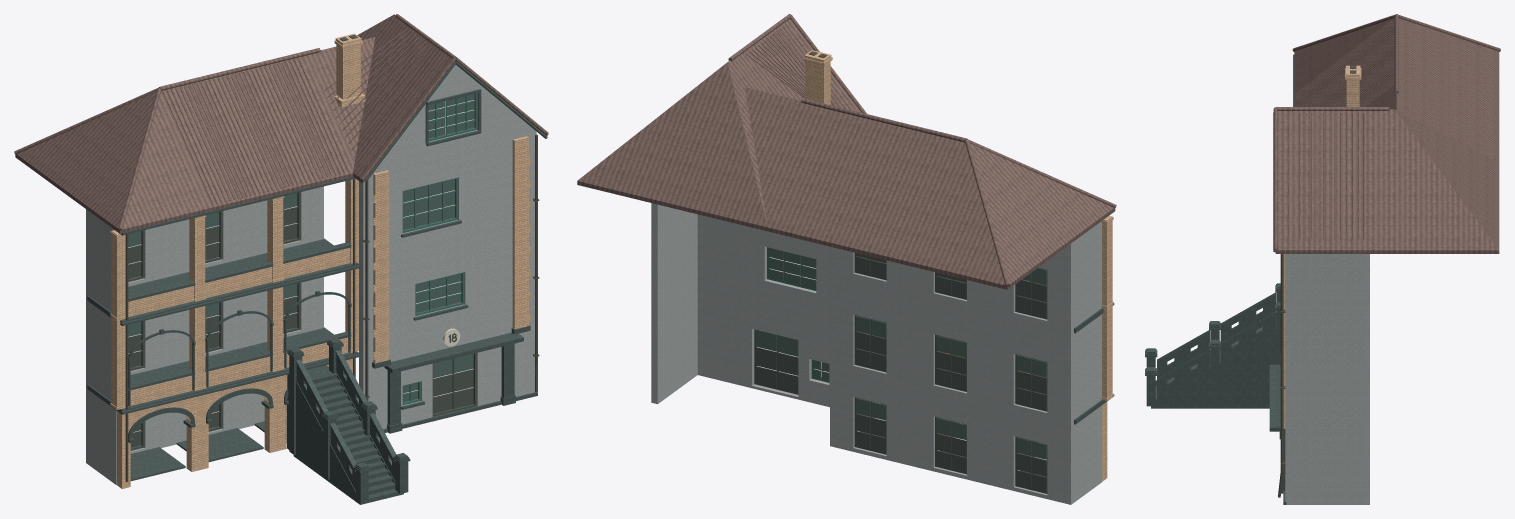
Rendered from full-source.glb.
3 renders of one model, left to right at view 1: azimuth 30°, elevation 25°; view 2: azimuth 150°, elevation 25°; view 3: azimuth 270°, elevation 25°, orthographic. The views are drawn at different scales.
Visible parts, largest first — view 1: 董竹君旧居18号楼南面券廊与题号山墙; view 2: 董竹君旧居18号楼南面券廊与题号山墙; view 3: 董竹君旧居18号楼南面券廊与题号山墙.
Part boxes in pixels (bbox=[...]): 董竹君旧居18号楼南面券廊与题号山墙: bbox=[14, 14, 548, 504]; 董竹君旧居18号楼南面券廊与题号山墙: bbox=[577, 14, 1116, 504]; 董竹君旧居18号楼南面券廊与题号山墙: bbox=[1145, 14, 1500, 504].
Size of the model in its own units: 17.89 by 15.03 by 13.39.
10 materials, 4 textured.
